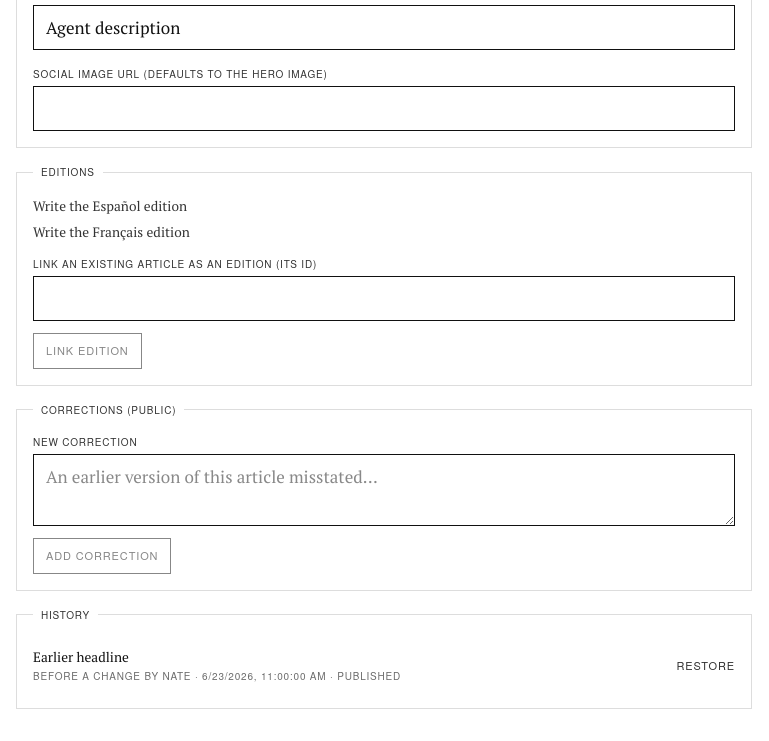
Test case: Editor workflow › restores a revision from the history and shows the restored content
(page scrolled)
Click the button "Restore".
click(706, 666)  # box [676, 657, 735, 674]
(page scrolled)
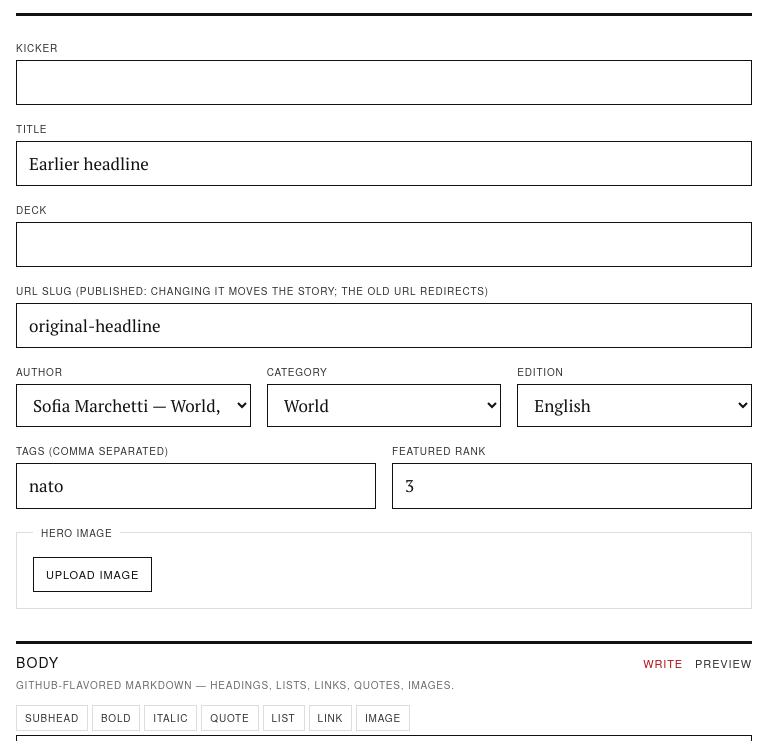
expect the field showing "Earlier headline" is shown: met, box [16, 141, 752, 186]
